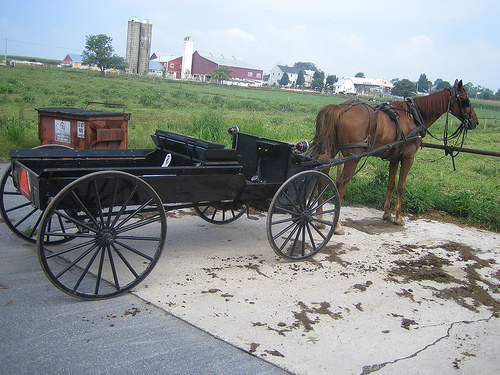horse: (307, 80, 478, 237)
